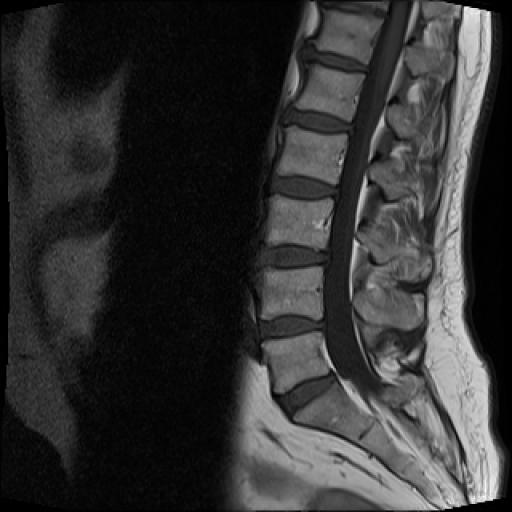L1: (295, 64, 365, 122)
L2: (276, 128, 348, 184)
L3: (268, 194, 334, 250)
L4: (257, 266, 325, 322)
L5: (262, 332, 329, 394)
S1: (292, 380, 375, 442)
